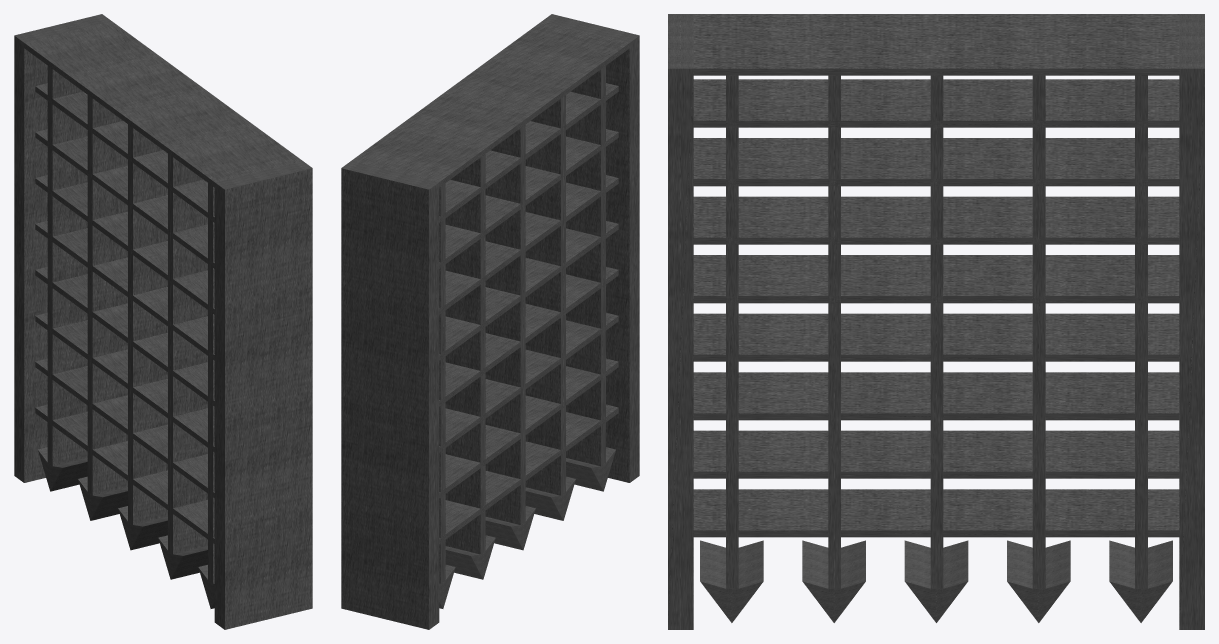
File: Iron_Gate_1.5_7_6_v02_Colored.fbx
The picture shows the model from 3 angles, left to right: view 1: azimuth 30°, elevation 25°; view 2: azimuth 150°, elevation 25°; view 3: azimuth 270°, elevation 25°; orthographic projection. The views are drawn at different scales.
Visible parts, largest first — view 1: Iron_Gate_Drop_Down; view 2: Iron_Gate_Drop_Down; view 3: Iron_Gate_Drop_Down.
Boxes of the visible parts, x1=… form: Iron_Gate_Drop_Down: x1=14, y1=14, x2=312, y2=629; Iron_Gate_Drop_Down: x1=341, y1=14, x2=639, y2=629; Iron_Gate_Drop_Down: x1=668, y1=14, x2=1204, y2=629.
Size of the model in its own units: 144 by 689 by 597.
1 material, 1 textured.
